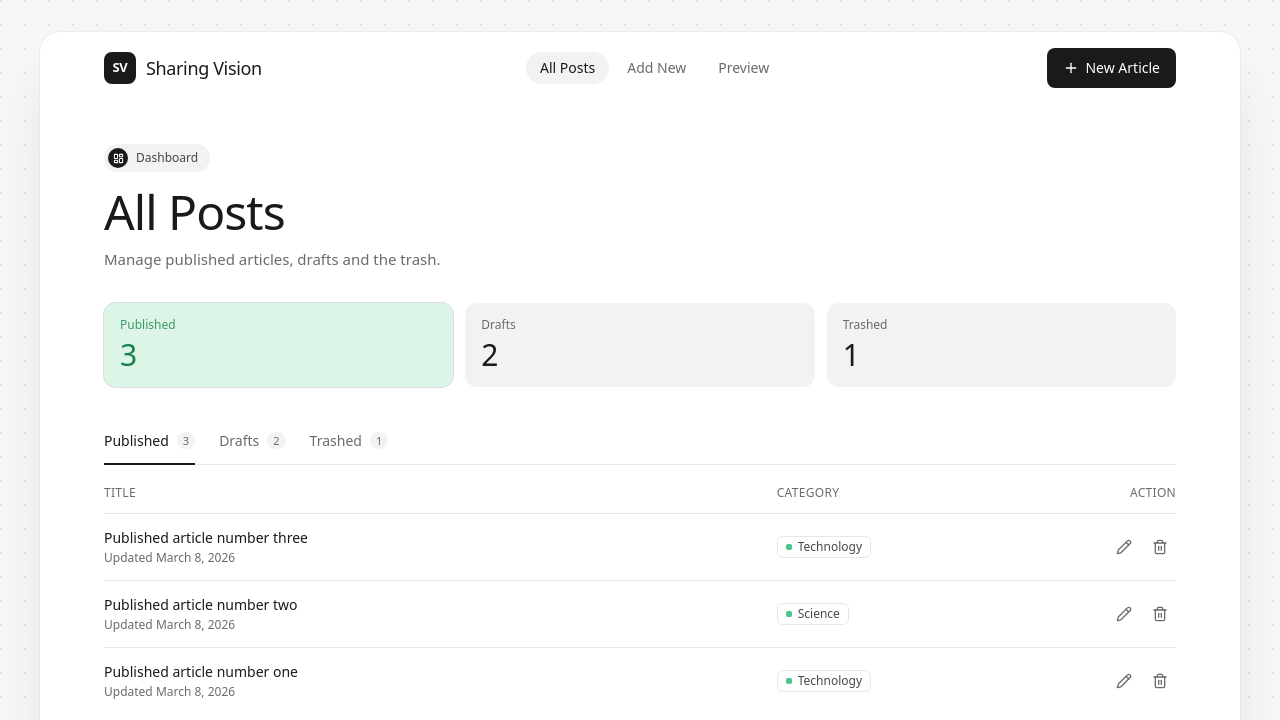
Scenario: All Posts page › switches tabs, keeps the tab in the URL and requests the matching status
Click the tab "Drafts 2". click: (252, 446)
box: [219,426,286,464]
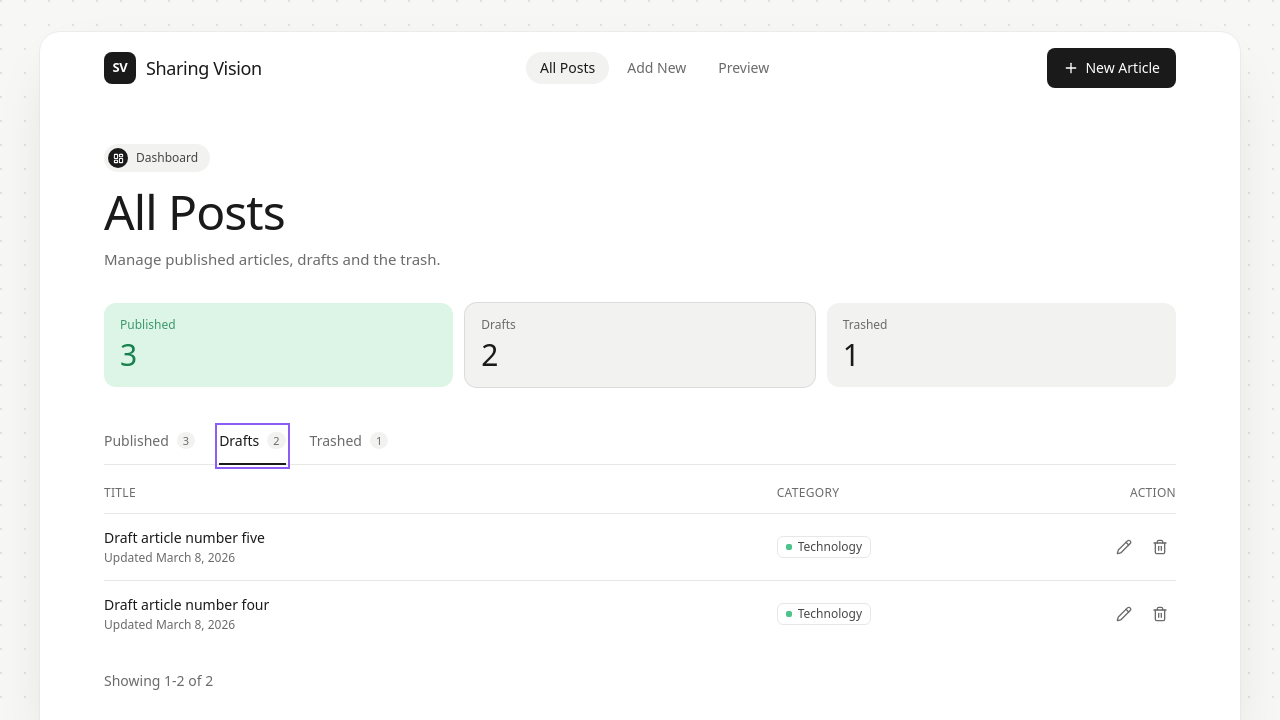
Expected: the text "Draft article number five" is shown, [104,528,265,546]
Expected: the text "Published article number one" is gone
